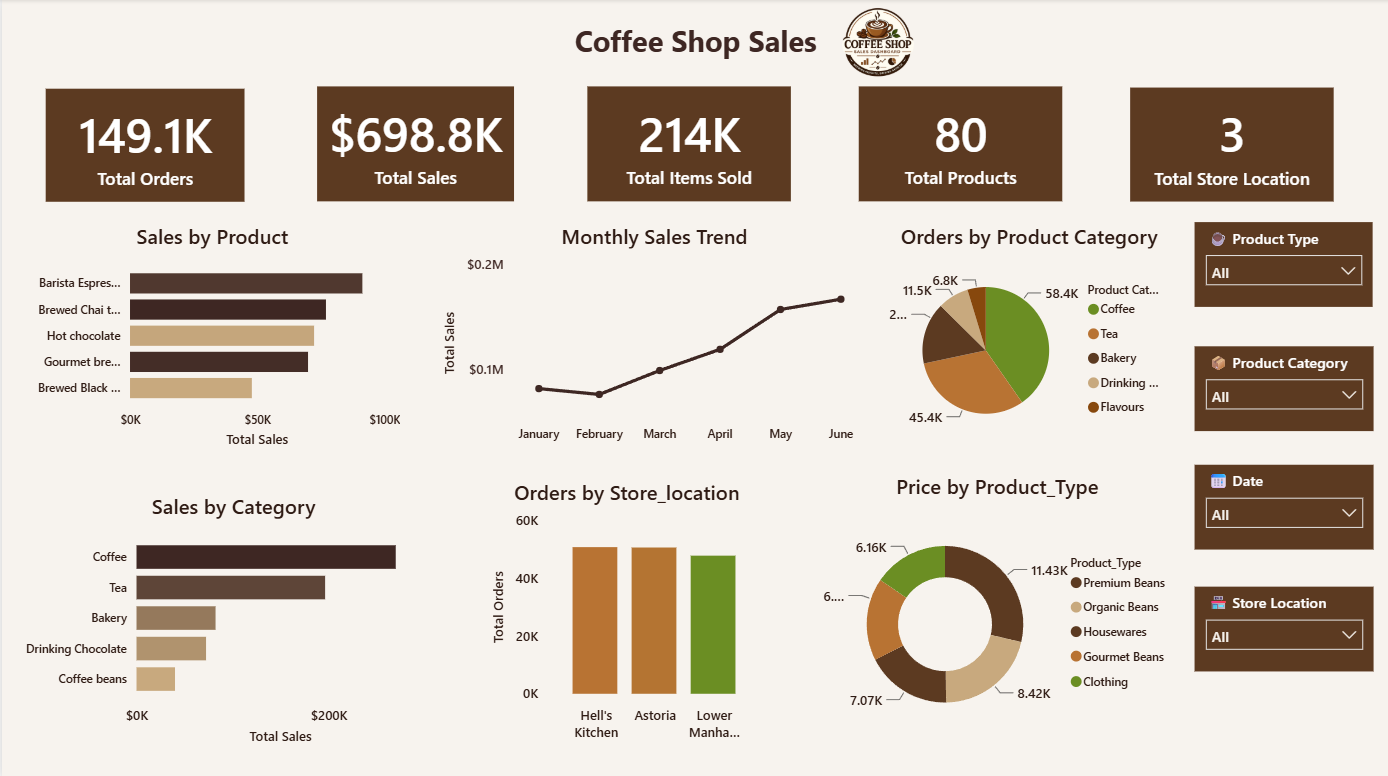

What the dashboard file says about the page in this screenshot:
{"tool":"powerbi","page":{"name":"Page 1","canvas":[1280,720],"ordinal":0},"visuals":[{"type":"card","fields":{"Values":["Transactions.Total Orders"]},"box":[40.3,82.8,183.6,104],"z":0},{"type":"card","fields":{"Values":["Transactions.Total Sales"]},"box":[290.8,80.7,181.5,106.1],"z":1000},{"type":"card","fields":{"Values":["Transactions.Total Items Sold"]},"box":[540.2,80.7,187.8,106.1],"z":2000},{"type":"card","fields":{"Values":["Transactions.Total Products"]},"box":[790.7,80.7,187.8,106.1],"z":3000},{"type":"textbox","box":[513.4,14.4,253.1,49.2],"z":4000},{"type":"lineChart","title":"Monthly Sales Trend","fields":{"Y":["Transactions.Total Sales"],"Category":["Transactions.transaction_date.Variation.Date Hierarchy.Month"]},"box":[403.3,205.9,398,212.3],"z":5000},{"type":"barChart","title":"Sales by Product","fields":{"Category":["Transactions.product_type"],"Y":["Transactions.Total Sales"]},"box":[15.9,205.9,356.6,212.3],"z":6000},{"type":"barChart","title":" Sales by Category","fields":{"Y":["Transactions.Total Sales"],"Category":["Transactions.product_category"]},"box":[15.9,455.3,395.9,236.7],"z":7000},{"type":"image","box":[749.3,0,117.8,81.7],"z":8000},{"type":"columnChart","title":" Orders by Store_location","fields":{"Category":["Transactions.store_location"],"Y":["Transactions.Total Orders"]},"box":[447.9,442.6,257.9,249.4],"z":9000},{"type":"donutChart","title":"Price by Product_Type","fields":{"Category":["Transactions.product_type"],"Y":["Sum(Transactions.unit_price)"]},"box":[749.3,437.3,338.6,254.7],"z":10000},{"type":"card","fields":{"Values":["Transactions.Total Store Location"]},"box":[1041.1,81.7,187.8,105.1],"z":11000},{"type":"slicer","fields":{"Values":["Transactions.transaction_date"]},"box":[1100.6,429.8,165.6,78.5],"z":12000},{"type":"slicer","fields":{"Values":["Transactions.product_type"]},"box":[1100.6,205.9,164.5,78.5],"z":13000},{"type":"slicer","fields":{"Values":["Transactions.product_category"]},"box":[1100.6,320.5,165.6,78.5],"z":14000},{"type":"slicer","fields":{"Values":["Transactions.store_location"]},"box":[1100.6,542.3,165.6,78.5],"z":15000},{"type":"pieChart","title":" Orders by Product Category","fields":{"Category":["Transactions.product_category"],"Y":["Transactions.Total Orders"]},"box":[809,206,279,212],"z":16000}]}

Visuals, with their boxes in screenshot pixels (x1, y1, x2, y2), scaled from the page's 1280x720 canvas onto the 1388x776 screenshot:
card - Transactions.Total Orders: [44,89,243,201]
card - Transactions.Total Sales: [315,87,512,201]
card - Transactions.Total Items Sold: [586,87,789,201]
card - Transactions.Total Products: [857,87,1061,201]
textbox: [557,16,831,69]
"Monthly Sales Trend" lineChart: [437,222,869,451]
"Sales by Product" barChart: [17,222,404,451]
" Sales by Category" barChart: [17,491,447,746]
image: [813,0,940,88]
" Orders by Store_location" columnChart: [486,477,765,746]
"Price by Product_Type" donutChart: [813,471,1180,746]
card - Transactions.Total Store Location: [1129,88,1333,201]
slicer - Transactions.transaction_date: [1193,463,1373,548]
slicer - Transactions.product_type: [1193,222,1372,307]
slicer - Transactions.product_category: [1193,345,1373,430]
slicer - Transactions.store_location: [1193,584,1373,669]
" Orders by Product Category" pieChart: [877,222,1180,451]
